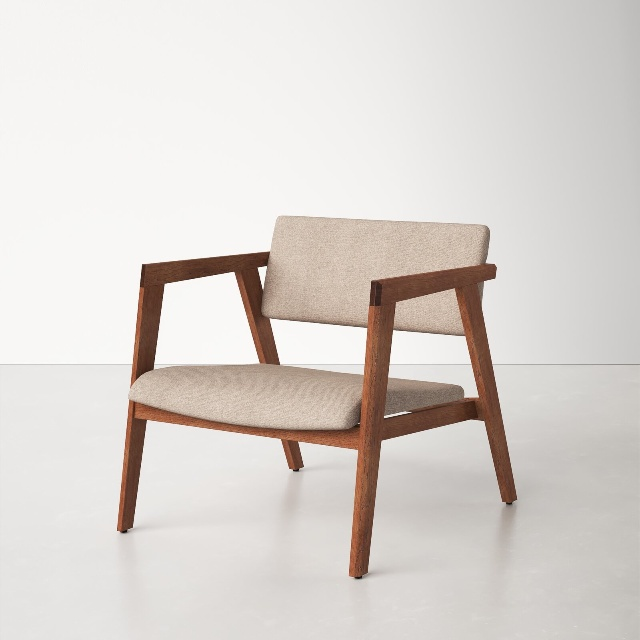obstacle: (118, 216, 516, 577)
